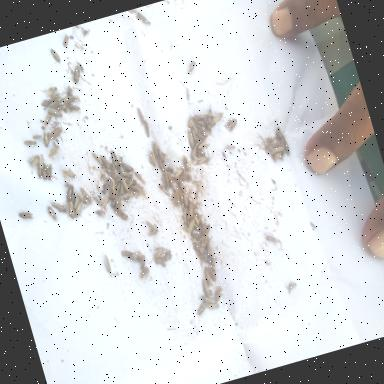pbw: (62, 184, 78, 202), (114, 204, 129, 222), (70, 64, 84, 83), (280, 133, 292, 155), (145, 218, 159, 236), (134, 10, 149, 26), (52, 198, 67, 214), (46, 105, 62, 120), (47, 126, 64, 140), (224, 118, 240, 132), (61, 166, 77, 180), (185, 60, 199, 76), (72, 200, 86, 216), (46, 145, 62, 159), (201, 277, 212, 297), (147, 150, 159, 168), (135, 180, 147, 198), (44, 162, 56, 180), (80, 186, 92, 204), (110, 149, 121, 168), (196, 248, 209, 264), (106, 180, 118, 197), (204, 268, 214, 288), (67, 201, 78, 219), (100, 152, 111, 170), (28, 154, 42, 168), (202, 292, 216, 306), (195, 301, 208, 316), (97, 195, 112, 208), (137, 254, 149, 270), (212, 286, 224, 302), (92, 150, 104, 166), (18, 210, 34, 222), (186, 218, 198, 234), (41, 130, 52, 147), (266, 232, 279, 246), (152, 246, 166, 259), (34, 160, 44, 178), (40, 162, 50, 180), (186, 130, 196, 148), (103, 254, 112, 274), (50, 47, 61, 63), (109, 195, 122, 208), (138, 266, 152, 278), (62, 92, 76, 104), (210, 112, 224, 124), (122, 160, 134, 174), (190, 124, 199, 142), (143, 119, 152, 137), (109, 162, 118, 180), (37, 152, 47, 168), (186, 202, 196, 218), (116, 155, 126, 171), (42, 86, 58, 96), (42, 112, 54, 125), (172, 166, 185, 178), (120, 168, 133, 180), (195, 120, 207, 133), (208, 253, 217, 270), (47, 205, 57, 220), (178, 170, 190, 182), (65, 200, 74, 216), (272, 150, 284, 162), (53, 103, 69, 112), (121, 176, 130, 192), (94, 207, 107, 218), (201, 235, 212, 248), (64, 84, 74, 98), (136, 170, 146, 184), (129, 250, 143, 260), (204, 119, 213, 134), (157, 147, 166, 162), (189, 145, 199, 158), (192, 112, 205, 122), (72, 196, 82, 209), (121, 248, 134, 258), (186, 115, 196, 128), (137, 106, 145, 122), (182, 208, 190, 224), (152, 144, 160, 160), (164, 172, 172, 188), (168, 172, 176, 188), (154, 255, 168, 264), (68, 94, 80, 104), (202, 224, 212, 236), (23, 138, 38, 146), (182, 192, 190, 207), (102, 166, 112, 178), (196, 154, 208, 164), (193, 118, 205, 128), (61, 34, 71, 46), (160, 175, 168, 190), (48, 99, 61, 108), (274, 125, 283, 138), (180, 182, 188, 196), (158, 160, 166, 174), (182, 155, 190, 169), (270, 146, 284, 154), (198, 127, 208, 138), (196, 147, 207, 157), (41, 98, 53, 107), (76, 190, 84, 203), (204, 241, 212, 254), (207, 302, 220, 310), (170, 174, 180, 184), (200, 224, 209, 235), (196, 140, 207, 149), (122, 193, 134, 201), (70, 192, 78, 204), (285, 282, 293, 294), (272, 139, 282, 148), (204, 109, 214, 118), (50, 92, 61, 100), (129, 184, 140, 192), (118, 184, 126, 195), (70, 104, 81, 112), (174, 192, 181, 204), (193, 231, 202, 240), (32, 132, 42, 140), (93, 194, 101, 204), (288, 282, 298, 290), (113, 174, 121, 184), (194, 222, 202, 232), (194, 214, 201, 225), (181, 225, 189, 234), (180, 192, 186, 204), (197, 132, 205, 140), (272, 142, 280, 150), (195, 138, 203, 146), (127, 178, 135, 186), (115, 183, 122, 192), (226, 144, 236, 150), (175, 186, 181, 196), (79, 62, 85, 72), (51, 121, 58, 128), (202, 142, 210, 148), (265, 148, 271, 154), (167, 166, 173, 172), (203, 115, 208, 122), (223, 150, 227, 158), (181, 203, 185, 209), (210, 289, 214, 295)
